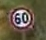limite 60: (9, 5, 34, 30)
